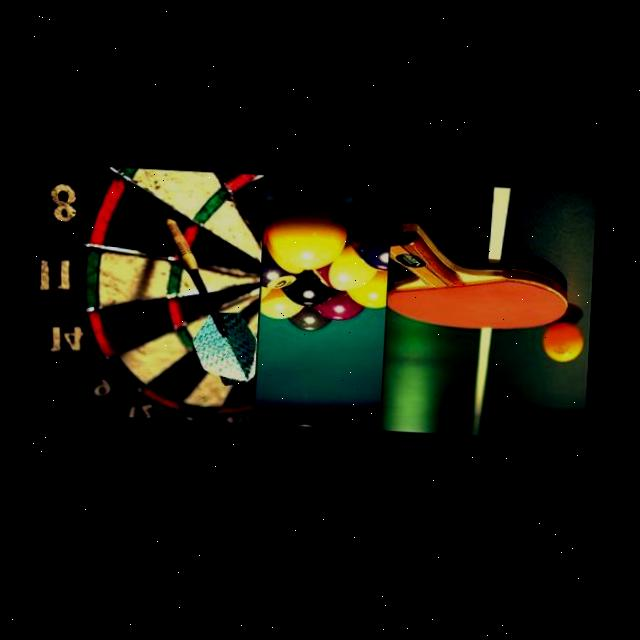ping-pong-ball: (542, 321, 585, 364)
